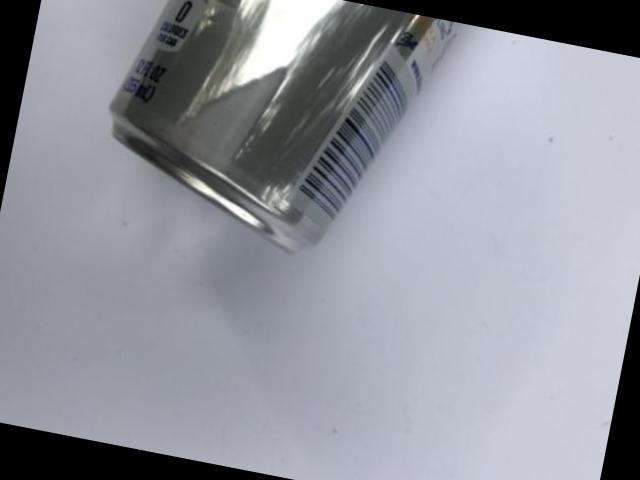metal: (112, 0, 458, 253)
